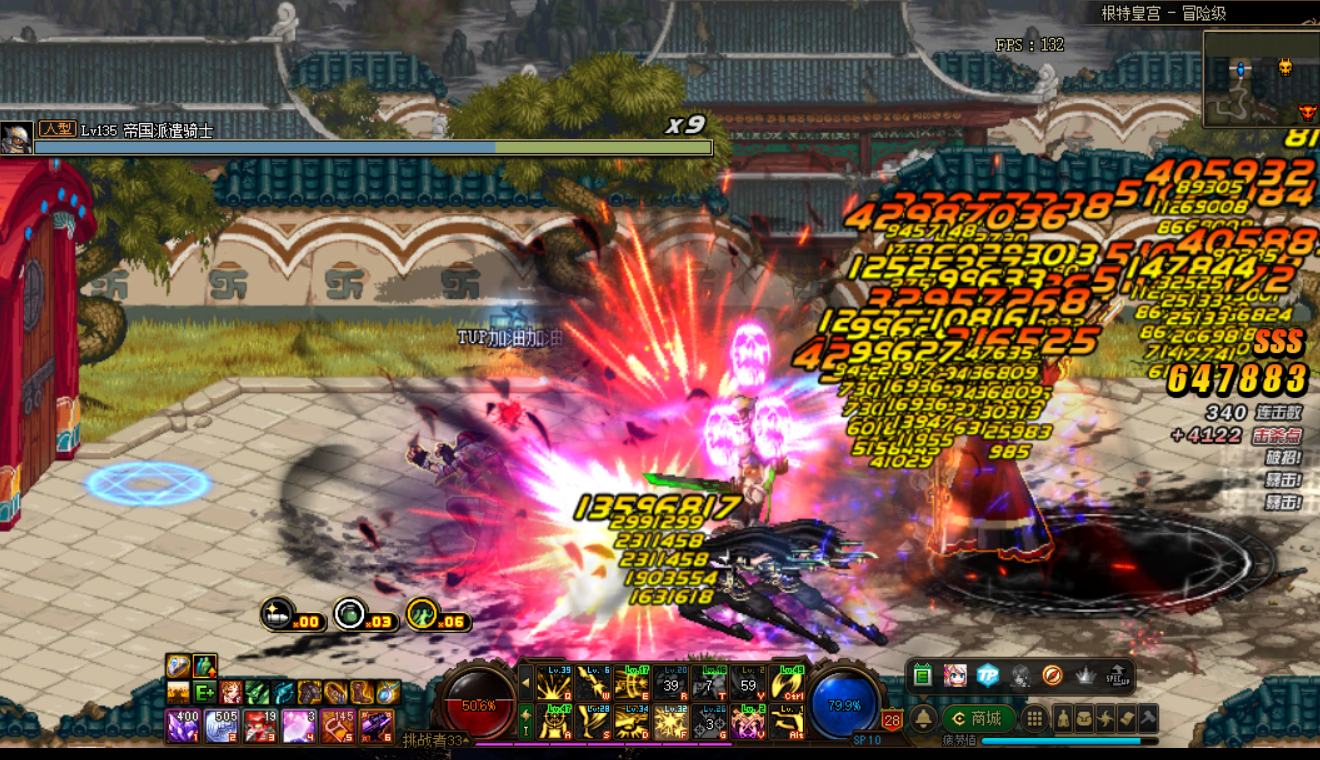monster: (847, 318, 1074, 568), (622, 523, 828, 661), (700, 513, 917, 640), (649, 392, 789, 538)
warrior: (358, 428, 551, 597)
